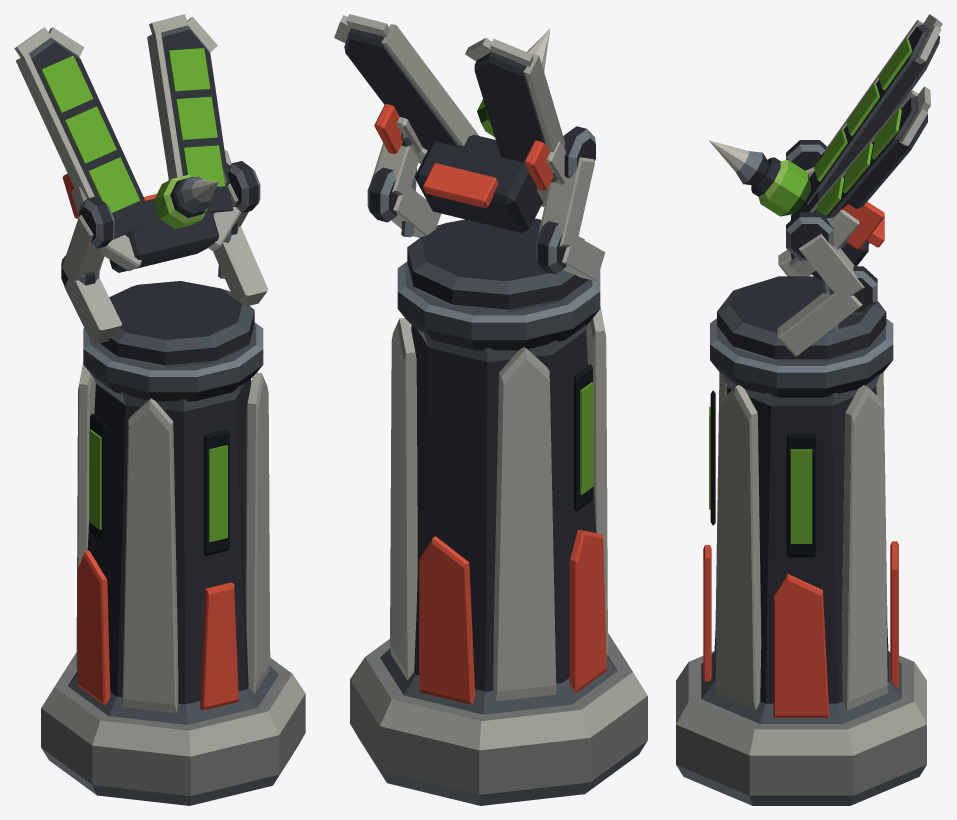
File: lv5_anti-aerien.glb
3 renders of one model, left to right at view 1: azimuth 30°, elevation 25°; view 2: azimuth 150°, elevation 25°; view 3: azimuth 270°, elevation 25°, orthographic. The views are drawn at different scales.
Visible parts, largest first — view 1: Base, Barrel_Recoil, Turret_Yaw, Base_TeamColor; view 2: Base, Barrel_Recoil, Turret_Yaw, Base_TeamColor, Team_Panels; view 3: Base, Barrel_Recoil, Turret_Yaw, Base_TeamColor, Team_Panels.
Boxes of the visible parts, bbox=[...] form: Base: bbox=[41, 322, 305, 805]; Barrel_Recoil: bbox=[14, 14, 240, 272]; Turret_Yaw: bbox=[61, 161, 267, 367]; Base_TeamColor: bbox=[77, 550, 238, 710]; Base: bbox=[350, 261, 647, 805]; Barrel_Recoil: bbox=[334, 14, 565, 232]; Turret_Yaw: bbox=[367, 126, 605, 312]; Base_TeamColor: bbox=[419, 529, 606, 704]; Team_Panels: bbox=[374, 104, 553, 208]; Base: bbox=[676, 318, 926, 805]; Barrel_Recoil: bbox=[709, 14, 942, 280]; Turret_Yaw: bbox=[717, 140, 886, 361]; Base_TeamColor: bbox=[703, 541, 898, 717]; Team_Panels: bbox=[842, 201, 884, 249].
Bounding box in the file's own units: 1.23 × 3.8 × 1.3.
